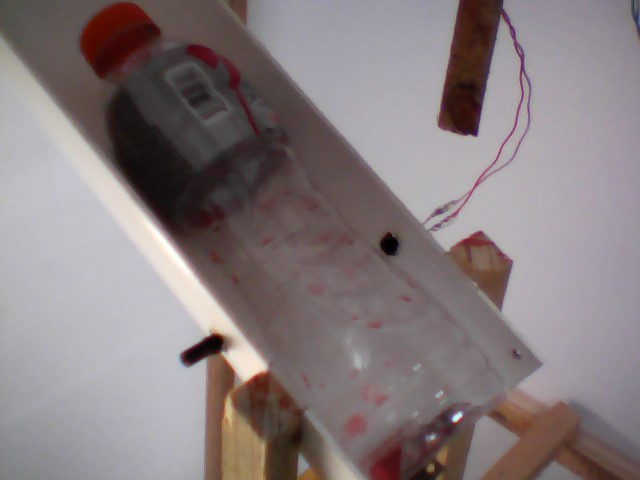plastico: (74, 3, 518, 480)
